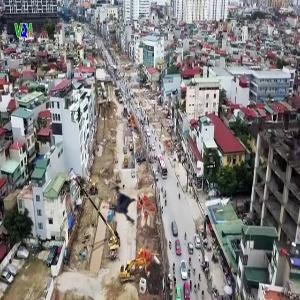drone: (96, 178, 149, 231)
